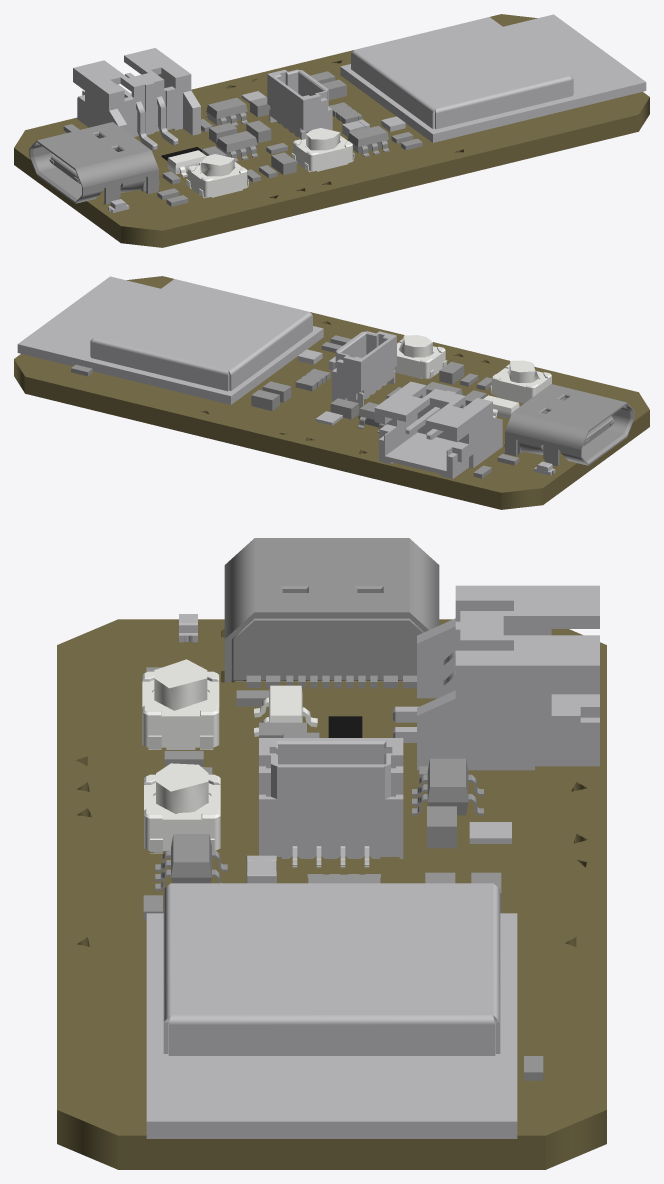
Rendered from ada-5323.glb.
The picture shows the model from 3 angles, top to bottom: view 1: azimuth 30°, elevation 25°; view 2: azimuth 150°, elevation 25°; view 3: azimuth 270°, elevation 25°; orthographic projection. The views are drawn at different scales.
Visible parts, largest first — view 1: 0.5833333333333334_0.5833333333333334_0.5833333333333334_0.8, 0.16666666666666666_0.16666666666666666_0.08333333333333333_, 0.3333333333333333_0.3333333333333333_0.3333333333333333_0, 0.9166666666666666_0.9166666666666666_0.9166666666666666_0.8; view 2: 0.5833333333333334_0.5833333333333334_0.5833333333333334_0.8, 0.16666666666666666_0.16666666666666666_0.08333333333333333_, 0.3333333333333333_0.3333333333333333_0.3333333333333333_0, 0.9166666666666666_0.9166666666666666_0.9166666666666666_0.8; view 3: 0.5833333333333334_0.5833333333333334_0.5833333333333334_0.8, 0.16666666666666666_0.16666666666666666_0.08333333333333333_, 0.3333333333333333_0.3333333333333333_0.3333333333333333_0, 0.9166666666666666_0.9166666666666666_0.9166666666666666_0.8.
Part boxes in pixels (x1,y1,x2,y2): 0.5833333333333334_0.5833333333333334_0.5833333333333334_0.8: [51, 14, 646, 213]; 0.16666666666666666_0.16666666666666666_0.08333333333333333_: [14, 14, 649, 247]; 0.3333333333333333_0.3333333333333333_0.3333333333333333_0: [29, 71, 422, 206]; 0.9166666666666666_0.9166666666666666_0.9166666666666666_0.8: [167, 128, 354, 198]; 0.5833333333333334_0.5833333333333334_0.5833333333333334_0.8: [17, 276, 612, 479]; 0.16666666666666666_0.16666666666666666_0.08333333333333333_: [14, 276, 649, 509]; 0.3333333333333333_0.3333333333333333_0.3333333333333333_0: [71, 335, 634, 478]; 0.9166666666666666_0.9166666666666666_0.9166666666666666_0.8: [394, 335, 551, 418]; 0.5833333333333334_0.5833333333333334_0.5833333333333334_0.8: [146, 585, 599, 1138]; 0.16666666666666666_0.16666666666666666_0.08333333333333333_: [57, 619, 606, 1169]; 0.3333333333333333_0.3333333333333333_0.3333333333333333_0: [143, 538, 543, 1080]; 0.9166666666666666_0.9166666666666666_0.9166666666666666_0.8: [142, 659, 317, 853].
Bounding box in the file's own units: 5.22 × 0.637 × 2.29.
